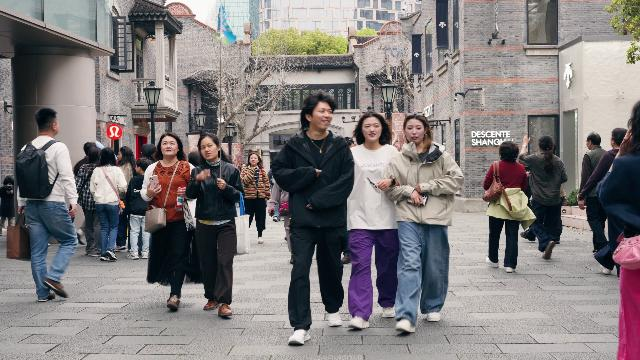person: (270, 92, 356, 346), (376, 112, 465, 335), (15, 108, 79, 302), (345, 110, 401, 330), (598, 99, 640, 360), (186, 132, 242, 317), (141, 132, 198, 311), (484, 139, 536, 273), (577, 128, 630, 254), (516, 135, 568, 260), (89, 146, 128, 262), (125, 158, 154, 260), (241, 153, 272, 244), (73, 142, 97, 247), (114, 145, 137, 252), (580, 132, 607, 199), (0, 176, 15, 236), (140, 143, 158, 167), (188, 151, 201, 167), (344, 136, 355, 148)
